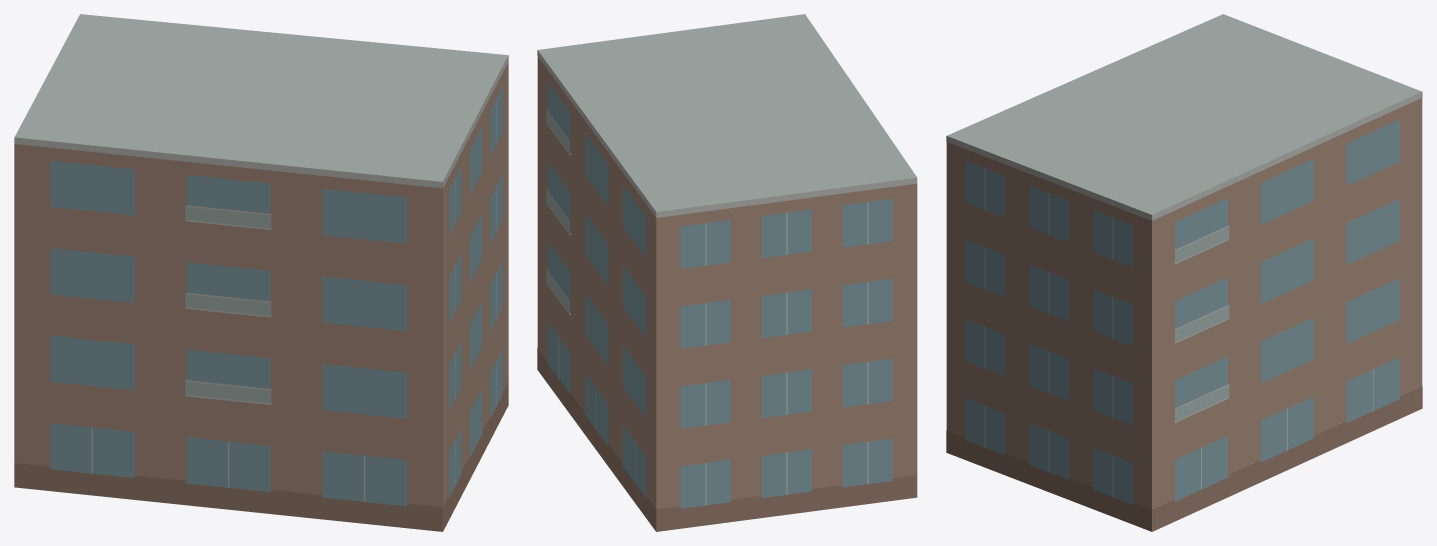
File: survey-upis-32623822.glb
The picture shows the model from 3 angles, left to right: view 1: azimuth 30°, elevation 25°; view 2: azimuth 150°, elevation 25°; view 3: azimuth 270°, elevation 25°; orthographic projection. The views are drawn at different scales.
Visible parts, largest first — view 1: survey-upis-32623822.tmp; view 2: survey-upis-32623822.tmp; view 3: survey-upis-32623822.tmp.
Boxes of the visible parts, x1,y1,x2,y2 form: survey-upis-32623822.tmp: [14, 14, 508, 531]; survey-upis-32623822.tmp: [537, 14, 917, 531]; survey-upis-32623822.tmp: [946, 14, 1422, 531].
Size of the model in its own units: 17.97 by 13.2 by 17.97.
